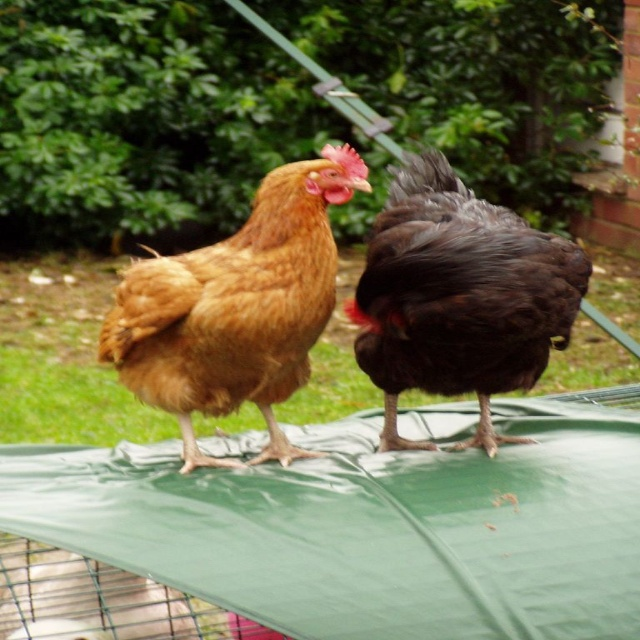Chicken: (111, 128, 370, 476), (337, 137, 604, 458)
